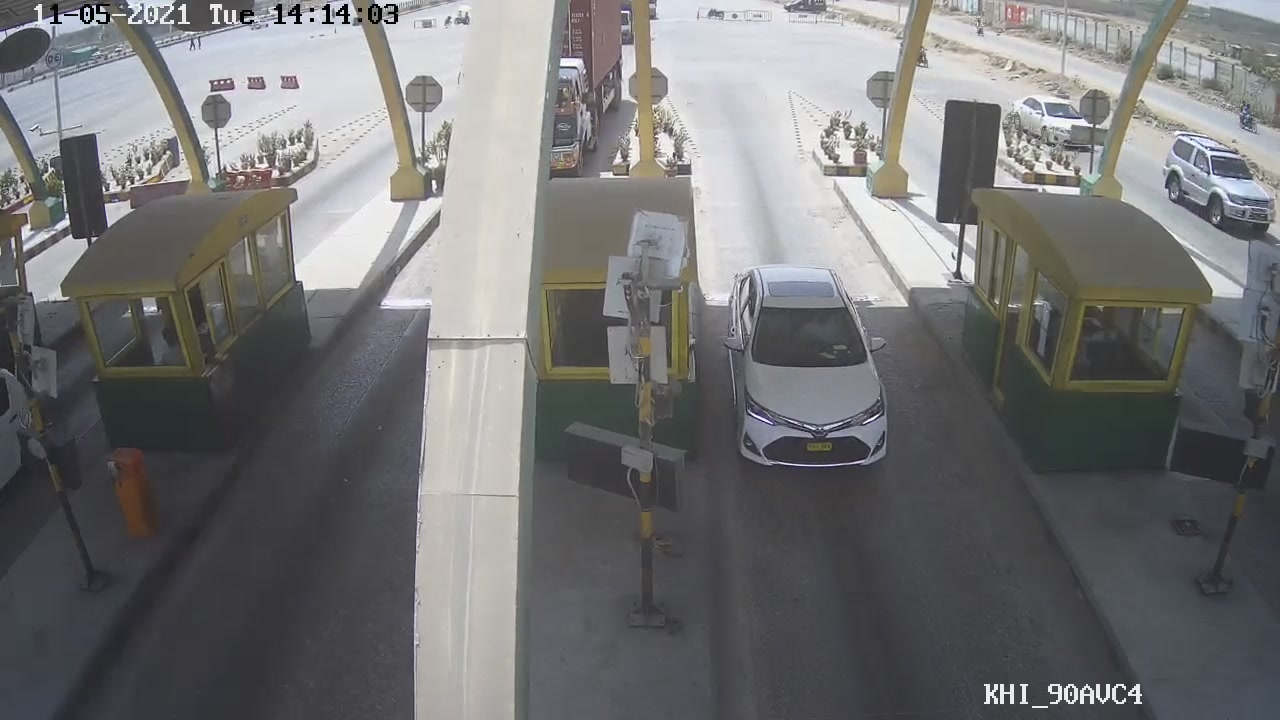F1: (715, 256, 901, 481)
